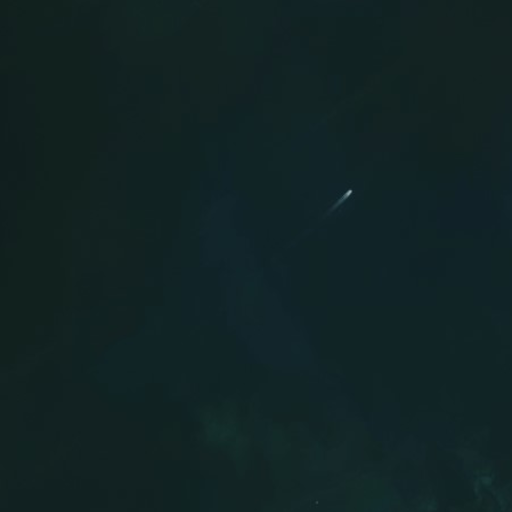ship: (343, 185, 354, 201)
